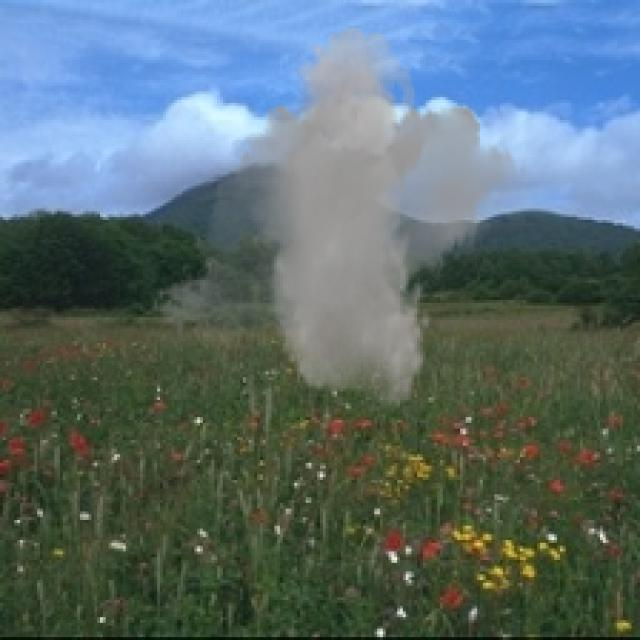smoke: (148, 26, 528, 408)
